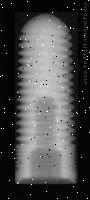Implant Direct: (15, 12, 78, 184)
